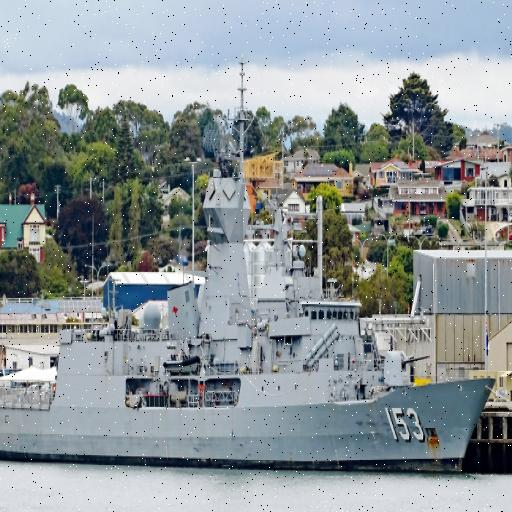Fragata: (1, 72, 498, 469)
